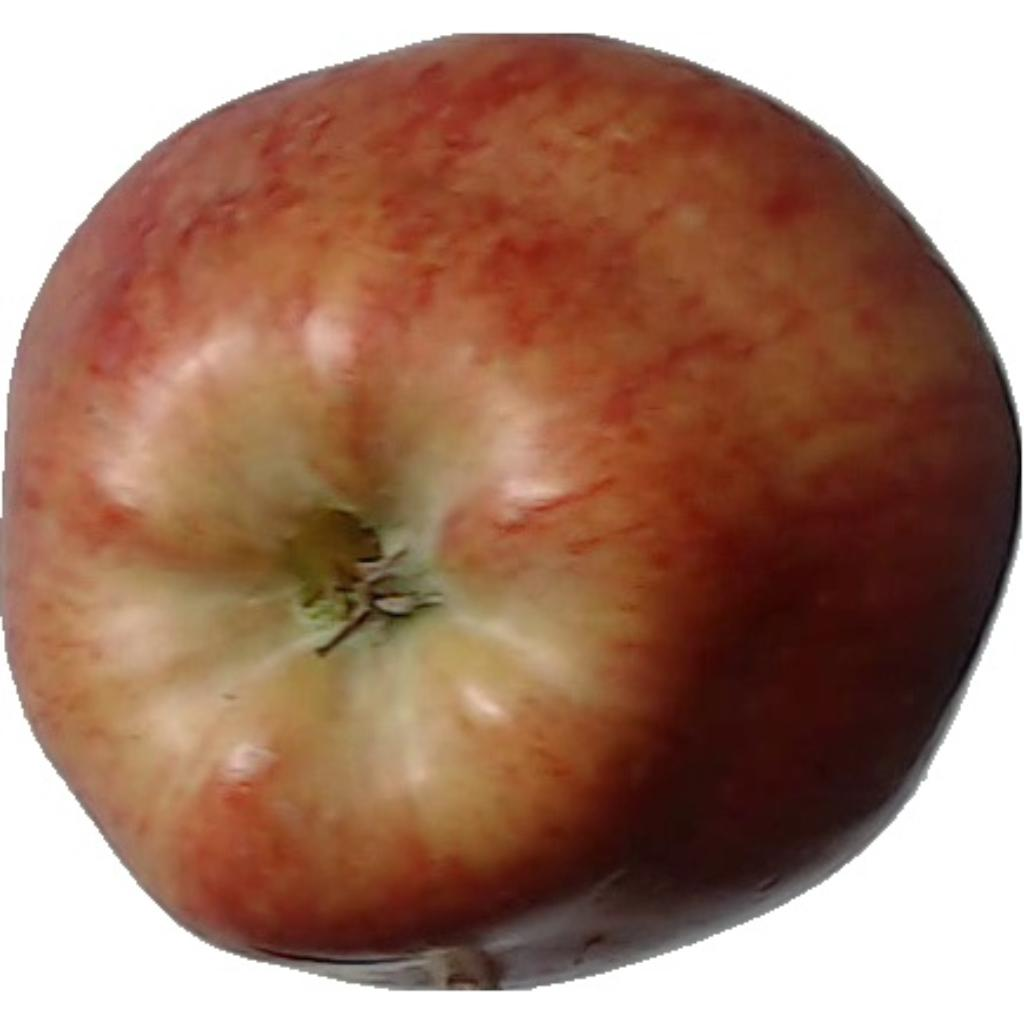apple: (0, 37, 1020, 988)
